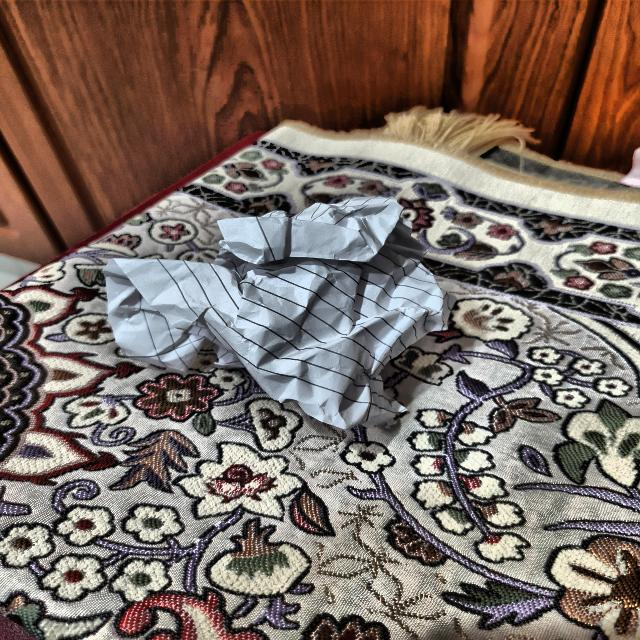Paper: (102, 198, 443, 414)
